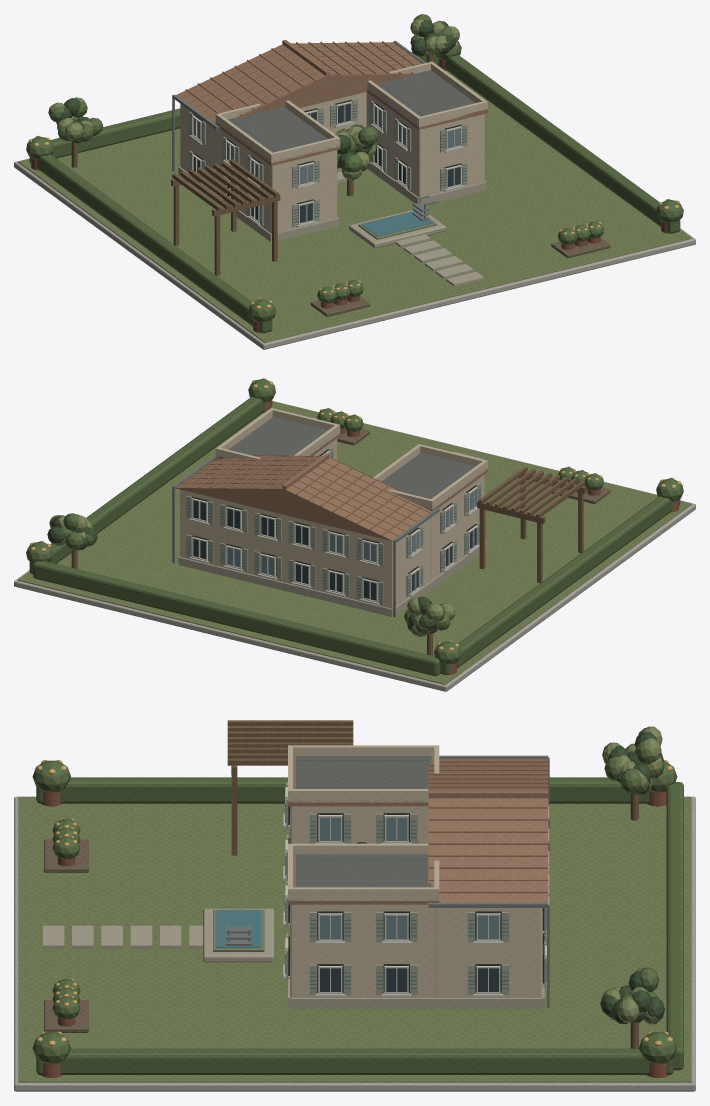
Rendered from EXP_VILLA_COURT.glb.
3 renders of one model, top to bottom at view 1: azimuth 30°, elevation 25°; view 2: azimuth 150°, elevation 25°; view 3: azimuth 270°, elevation 25°, orthographic. The views are drawn at different scales.
Visible parts, largest first — view 1: EXP_VILLA_COURT_Visual; view 2: EXP_VILLA_COURT_Visual; view 3: EXP_VILLA_COURT_Visual.
Part boxes in pixels (bbox=[...]): EXP_VILLA_COURT_Visual: bbox=[14, 14, 695, 349]; EXP_VILLA_COURT_Visual: bbox=[14, 378, 695, 691]; EXP_VILLA_COURT_Visual: bbox=[14, 720, 695, 1091].
Size of what is drawn, in the model's own units: 7.92 by 2 by 7.92.
Materials: 24 (18 with a texture image).
